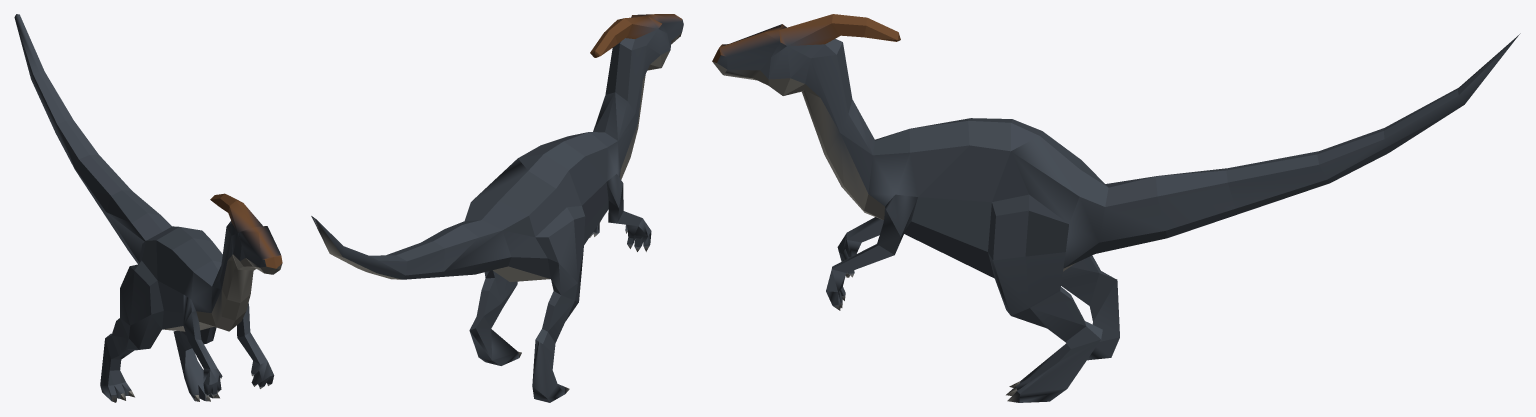
Rendered from cc0-parasaurolophus-lod1.glb.
The picture shows the model from 3 angles, left to right: view 1: azimuth 30°, elevation 25°; view 2: azimuth 150°, elevation 25°; view 3: azimuth 270°, elevation 25°; orthographic projection. The views are drawn at different scales.
Parts seen in each view (by area): view 1: part_0; view 2: part_0; view 3: part_0.
Boxes of the visible parts, x1,y1,x2,y2 form: part_0: (14, 14, 282, 402); part_0: (311, 14, 683, 402); part_0: (712, 14, 1520, 402).
Bounding box in the file's own units: 1.96 × 5.75 × 11.79.
